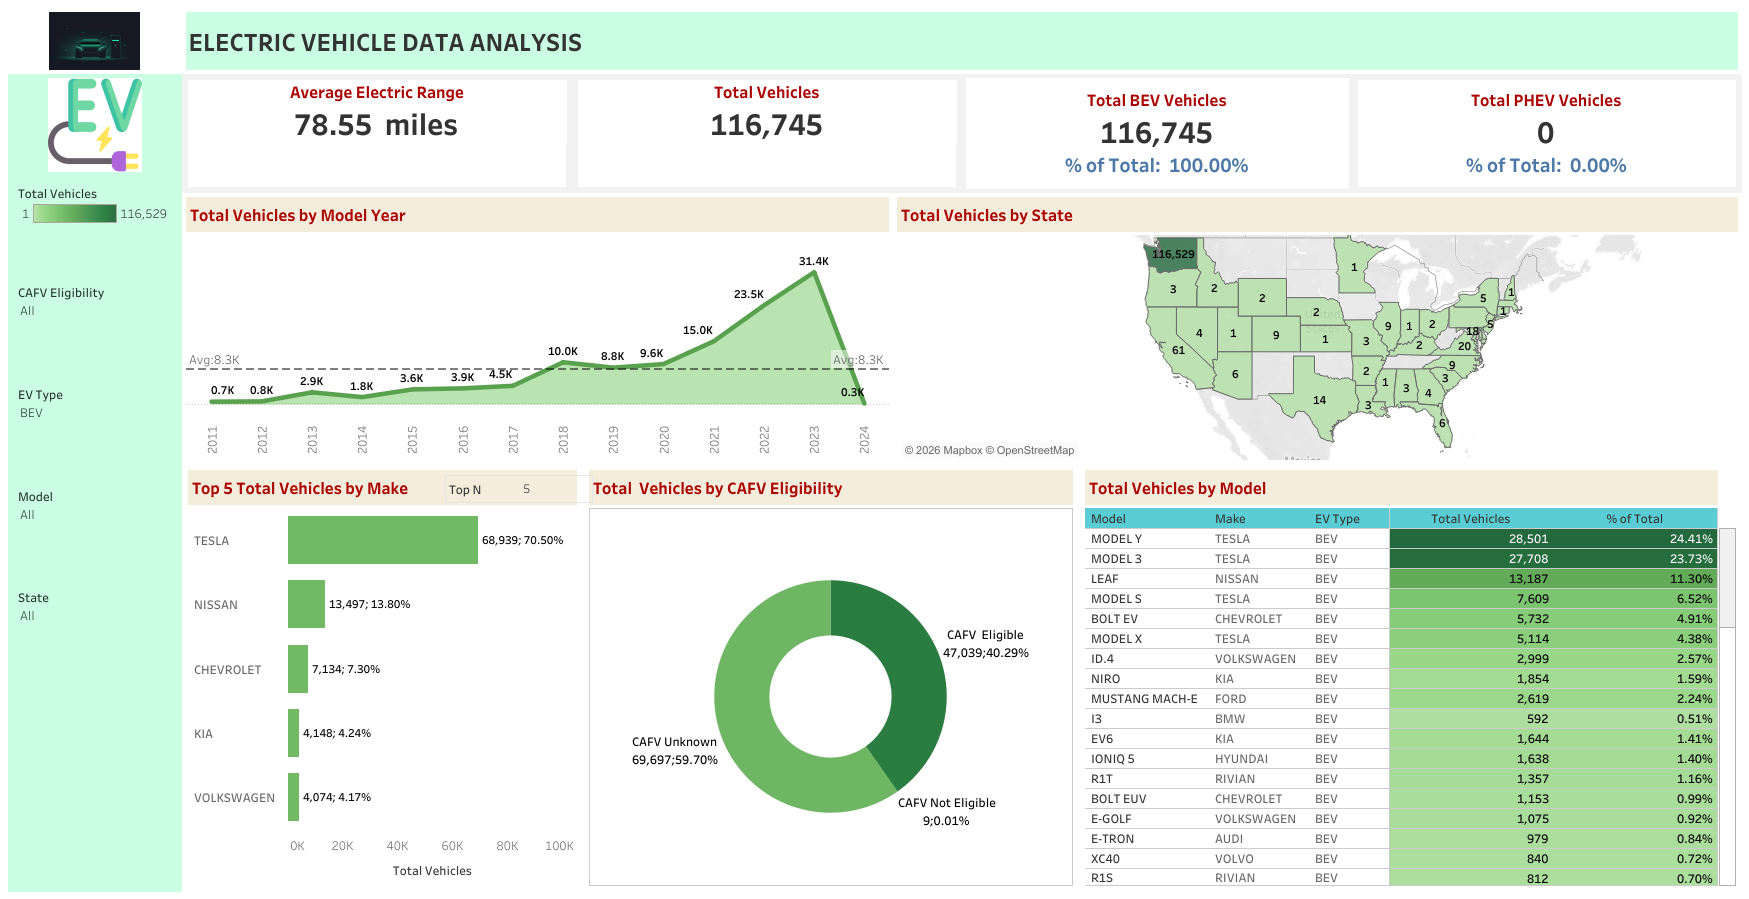

This screenshot's page, from the dashboard's own definition file:
{"tool":"tableau","page":{"name":"Dashboard 1","canvas":[1000,1000],"units":"permille","ordinal":0},"visuals":[{"type":"image","param":"Image/EV.jpg","box":[5,8.9,99.4,73.3]},{"type":"title","box":[104.4,8.9,890.6,73.3]},{"type":"image","param":"Image/images.png","box":[8.8,82.2,91.9,113.3]},{"type":"worksheet","title":"Average Electric Range","mark":"Automatic","box":[104.4,82.2,223.1,132.2]},{"type":"worksheet","title":"Total Vehicles","mark":"Automatic","box":[327.5,82.2,222.5,132.2]},{"type":"worksheet","title":"Total BEV Vehicles","mark":"Automatic","box":[550,82.2,222.5,132.2]},{"type":"worksheet","title":"Total PHEV Vehicles","mark":"Automatic","box":[772.5,82.2,222.5,132.2]},{"type":"legend","title":"Total Vehicles by State","param":"[federated.07c68sj0bigr631bh2vrx0qi7p36].[usr:Calculation_1705116403486720:qk]","box":[8.8,195.6,91.9,113.3]},{"type":"worksheet","title":"Total Vehicles by Model Year","mark":"Area","rows":["Calculation_1705116403486720","Calculation_1705116403486720"],"cols":["Model Year"],"box":[104.4,214.4,444.4,301.1]},{"type":"worksheet","title":"Total Vehicles by State","mark":"Multipolygon","box":[548.8,214.4,446.2,301.1]},{"type":"filter","title":"Total Vehicles by Model Year","param":"[federated.07c68sj0bigr631bh2vrx0qi7p36].[none:Clean Alternative Fuel Vehicle (C","box":[8.8,308.9,91.9,113.3]},{"type":"filter","title":"Total Vehicles by Model Year","param":"[federated.07c68sj0bigr631bh2vrx0qi7p36].[none:Electric Vehicle Type:nk]","box":[8.8,422.2,91.9,113.3]},{"type":"worksheet","title":"Top 10 Total Vehicles by Make","mark":"Automatic","rows":["Make"],"cols":["Calculation_1705116403486720"],"box":[104.4,515.5,250.6,475.6]},{"type":"worksheet","title":"Total  Vehicles by CAFV Eligibility","mark":"Pie","rows":["Calculation_1705116445356040","Calculation_1705116445356040"],"box":[355,515.5,225.6,475.6]},{"type":"worksheet","title":"Total Vehicles by Model","mark":"Square","rows":["Model","Make","Electric Vehicle Type"],"box":[580.6,515.5,414.4,475.6]},{"type":"parameter","param":"[Parameters].[Parameter 1]","box":[254.4,527.8,84.4,31.1]},{"type":"filter","title":"Total Vehicles by Model Year","param":"[federated.07c68sj0bigr631bh2vrx0qi7p36].[none:Model:nk]","box":[8.8,535.6,91.9,112.2]},{"type":"filter","title":"Total Vehicles by Model Year","param":"[federated.07c68sj0bigr631bh2vrx0qi7p36].[none:State:nk]","box":[8.8,647.8,91.9,112.2]},{"type":"blank","box":[8.8,760,91.9,112.2]},{"type":"blank","box":[8.8,872.2,91.9,112.2]}]}

Visuals, with their boxes on the dashboard's canvas, which has no fixed pixel size, in thousandths of its width and height (x1, y1, x2, y2). These are canvas units, not pixel positions in the 1749x899 screenshot, which may show the page scaled, cropped or inside an application window:
image: crop(5, 9, 104, 82)
title: crop(104, 9, 995, 82)
image: crop(9, 82, 101, 196)
"Average Electric Range" worksheet: crop(104, 82, 328, 214)
"Total Vehicles" worksheet: crop(328, 82, 550, 214)
"Total BEV Vehicles" worksheet: crop(550, 82, 772, 214)
"Total PHEV Vehicles" worksheet: crop(772, 82, 995, 214)
"Total Vehicles by State" legend: crop(9, 196, 101, 309)
"Total Vehicles by Model Year" worksheet (Area marks): crop(104, 214, 549, 516)
"Total Vehicles by State" worksheet (Multipolygon marks): crop(549, 214, 995, 516)
"Total Vehicles by Model Year" filter: crop(9, 309, 101, 422)
"Total Vehicles by Model Year" filter: crop(9, 422, 101, 536)
"Top 10 Total Vehicles by Make" worksheet: crop(104, 516, 355, 991)
"Total  Vehicles by CAFV Eligibility" worksheet (Pie marks): crop(355, 516, 581, 991)
"Total Vehicles by Model" worksheet (Square marks): crop(581, 516, 995, 991)
parameter: crop(254, 528, 339, 559)
"Total Vehicles by Model Year" filter: crop(9, 536, 101, 648)
"Total Vehicles by Model Year" filter: crop(9, 648, 101, 760)
blank: crop(9, 760, 101, 872)
blank: crop(9, 872, 101, 984)
